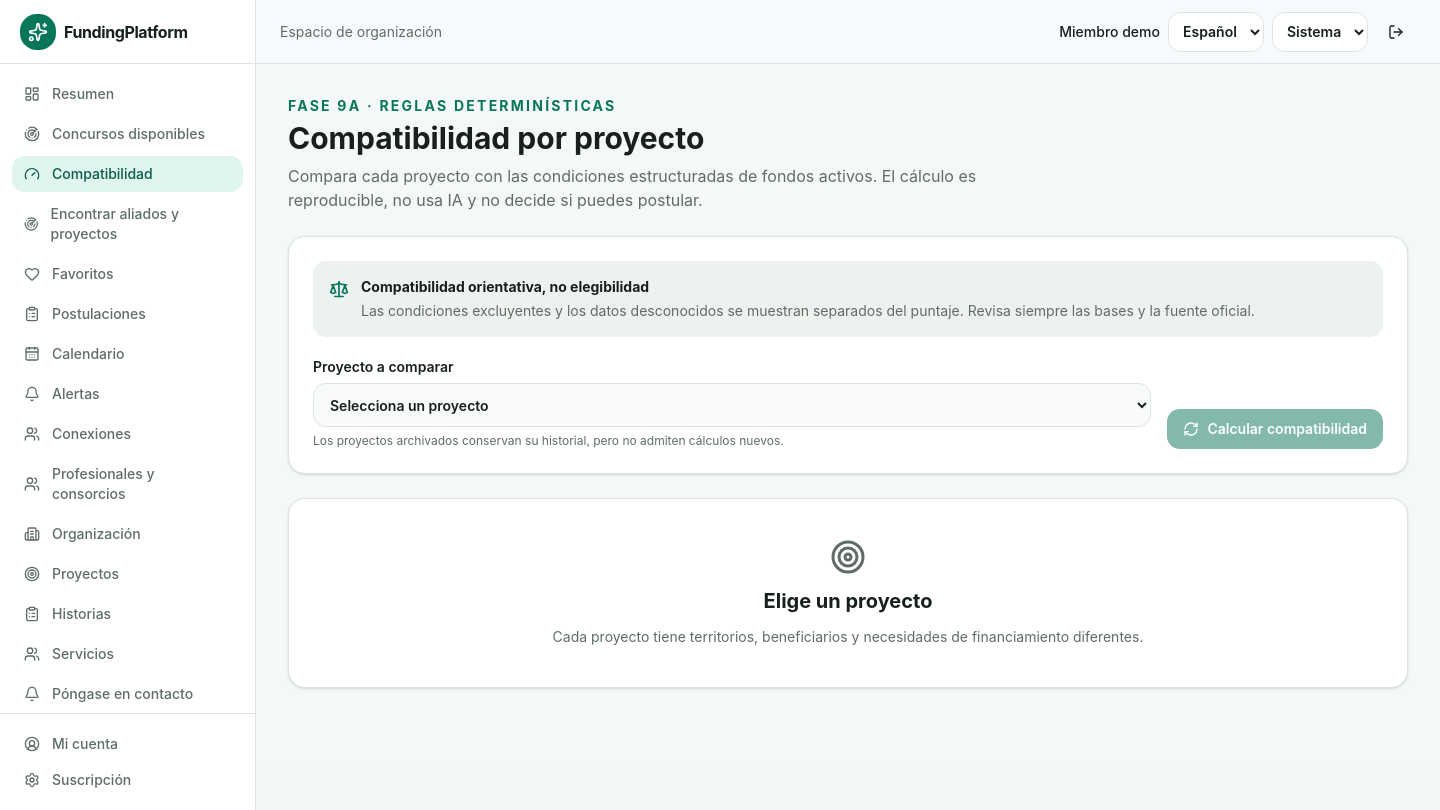
Scenario: compatibilidad determinística por proyecto › reintenta una respuesta incierta con la misma clave idempotente y luego muestra el resultado
The image size is (1440, 810).
Select "Agua segura" in the dropdown labelled "Proyecto a comparar" at (732, 405), box [313,383,1151,427]
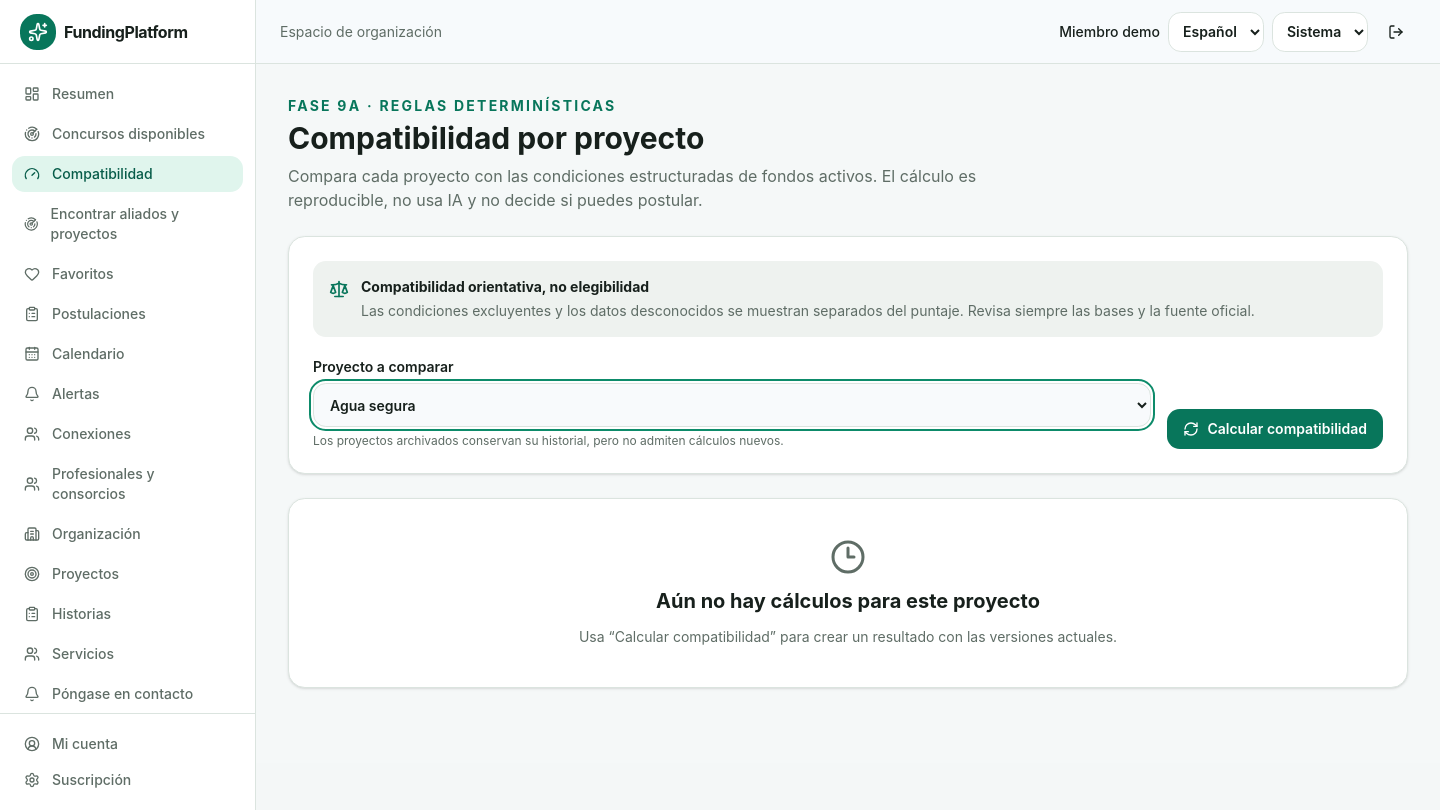
Expected: the heading "Aún no hay cálculos para este proyecto" is shown, [656,589,1040,613]
Click the button "Calcular compatibilidad".
click(1275, 429)  # box [1167,409,1383,449]
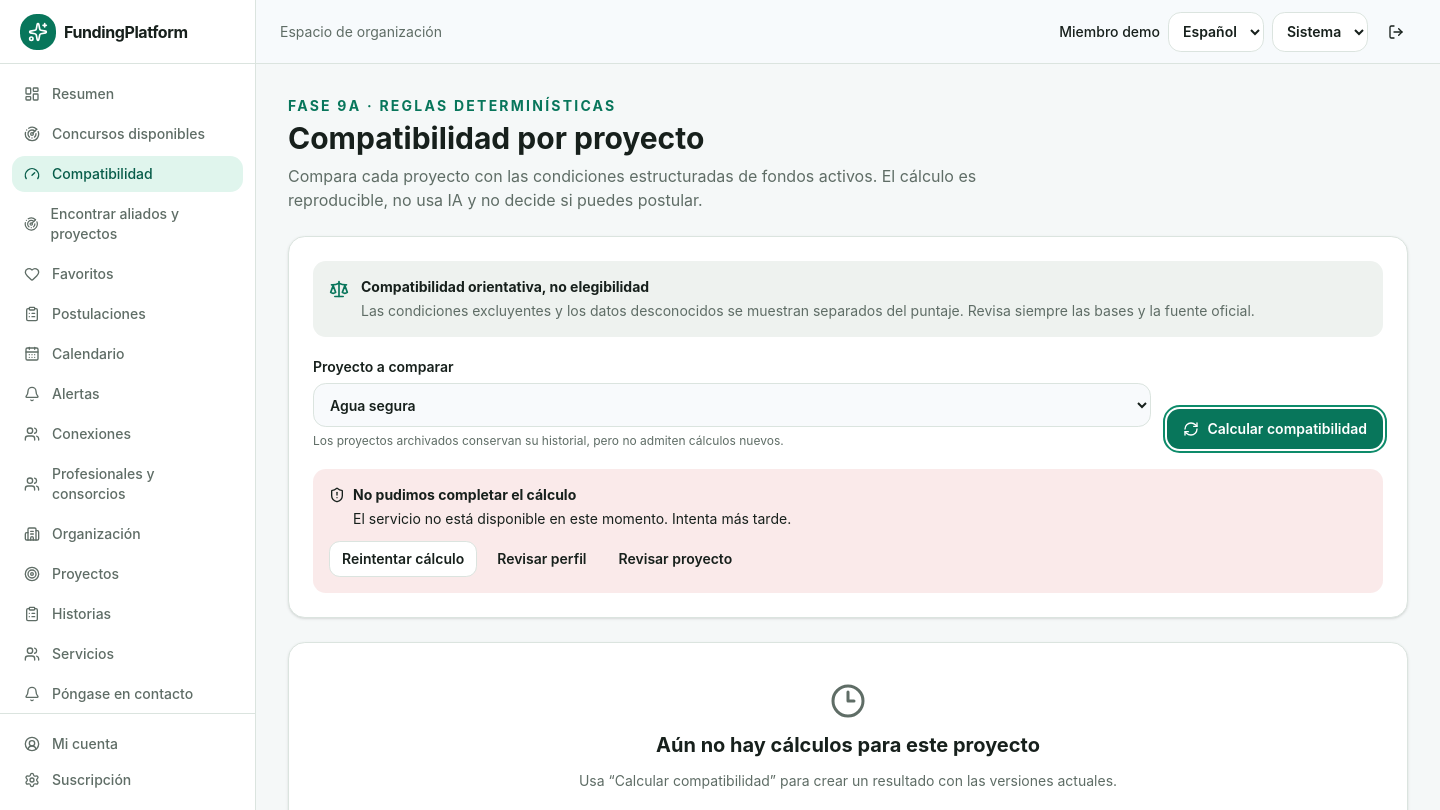
Expected: the heading "No pudimos completar el cálculo" is shown, [353,486,576,503]
Click the button "Reintentar cálculo".
click(403, 559)  # box [329,541,477,577]
(page scrolled)
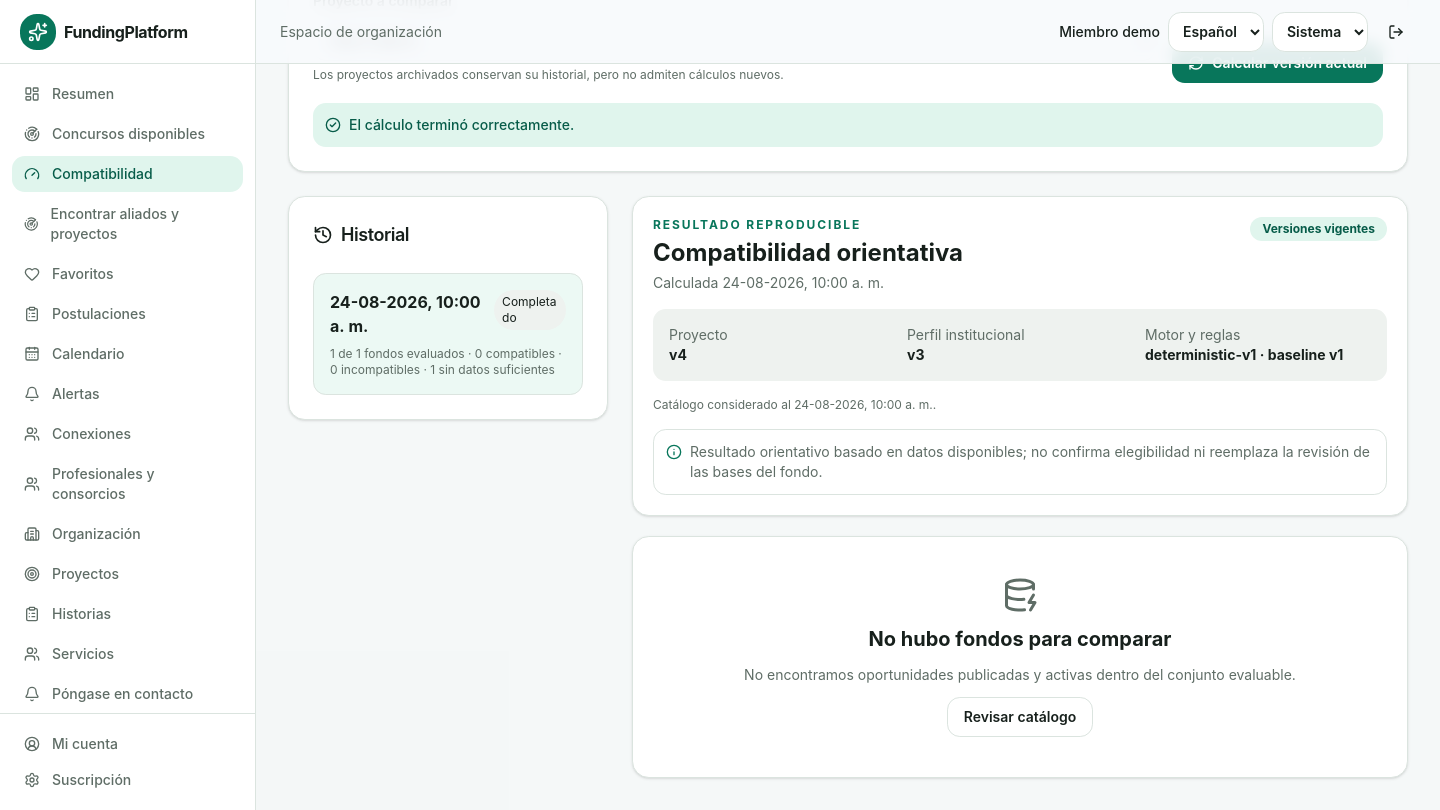
Expected: the text "El cálculo terminó correctamente." is shown, [313,103,1383,147]
Expected: the heading "No hubo fondos para comparar" is shown, [869,627,1171,651]
